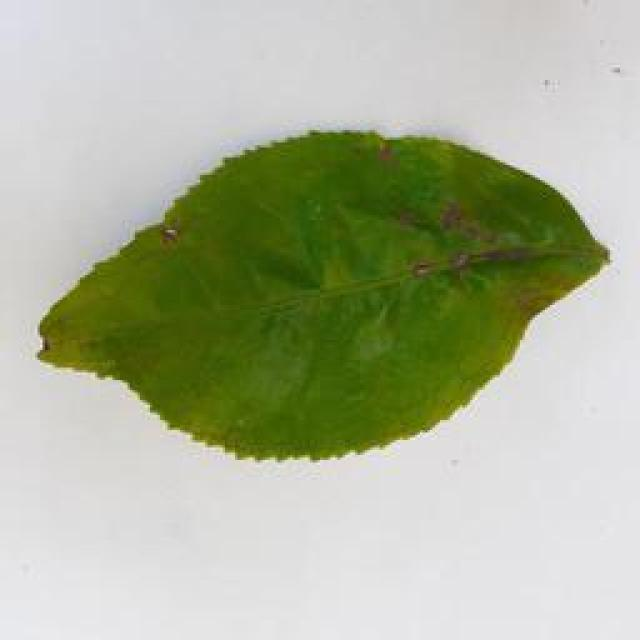Helopeltis: (25, 121, 613, 470)
